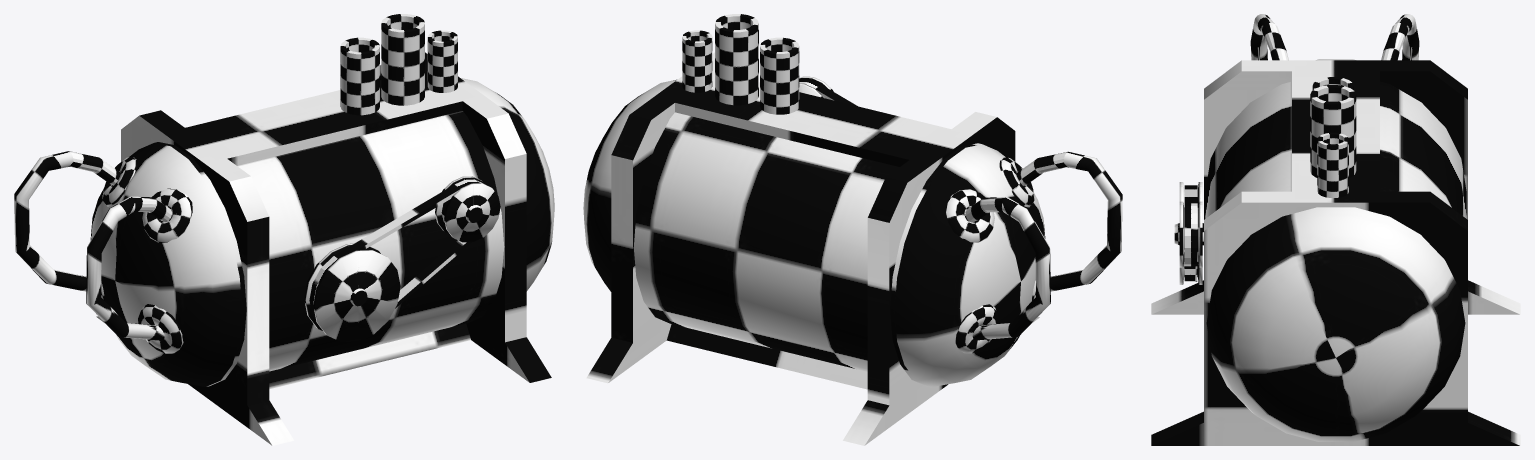
File: citerne.FBX
3 views of the same model, side by side, from view 1: azimuth 30°, elevation 25°; view 2: azimuth 150°, elevation 25°; view 3: azimuth 270°, elevation 25° (orthographic). The views are drawn at different scales.
Parts seen in each view (by area): view 1: Sphere001, Box001, Pivot001, Cylinder006, Tube002, Cylinder005, Pivot002, Tube001, Box002, Tube003, Torus003, Torus002 (+1 smaller); view 2: Sphere001, Box001, Cylinder005, Tube002, Cylinder006, Tube001, Tube003, Torus005, Torus004, Torus003; view 3: Sphere001, Box001, Tube002, Tube003, Box002, Cylinder005, Cylinder006, Pivot002, Pivot001.
Part boxes in pixels (bbox=[...]): Sphere001: bbox=[90, 78, 554, 386]; Box001: bbox=[96, 52, 551, 445]; Pivot001: bbox=[304, 243, 400, 342]; Cylinder006: bbox=[14, 151, 120, 291]; Tube002: bbox=[381, 14, 424, 105]; Cylinder005: bbox=[86, 196, 171, 340]; Pivot002: bbox=[435, 176, 500, 242]; Tube001: bbox=[340, 37, 379, 115]; Box002: bbox=[309, 179, 483, 319]; Tube003: bbox=[427, 30, 457, 92]; Torus003: bbox=[142, 188, 192, 242]; Torus002: bbox=[138, 304, 183, 353]; Sphere001: bbox=[583, 79, 1045, 387]; Box001: bbox=[586, 52, 1039, 445]; Cylinder005: bbox=[1016, 151, 1122, 291]; Tube002: bbox=[715, 14, 758, 105]; Cylinder006: bbox=[965, 197, 1050, 340]; Tube001: bbox=[760, 37, 799, 114]; Tube003: bbox=[682, 30, 712, 92]; Torus005: bbox=[946, 189, 994, 242]; Torus004: bbox=[955, 304, 999, 353]; Torus003: bbox=[999, 157, 1034, 207]; Sphere001: bbox=[1205, 59, 1466, 441]; Box001: bbox=[1151, 60, 1520, 445]; Tube002: bbox=[1310, 85, 1356, 177]; Tube003: bbox=[1317, 132, 1348, 197]; Box002: bbox=[1184, 185, 1197, 281]; Cylinder005: bbox=[1250, 14, 1288, 60]; Cylinder006: bbox=[1381, 14, 1419, 60]; Pivot002: bbox=[1174, 201, 1203, 267]; Pivot001: bbox=[1174, 182, 1203, 284].
Bounding box in the file's own units: 65.88 × 40.11 × 41.94.
1 material, 1 textured.
